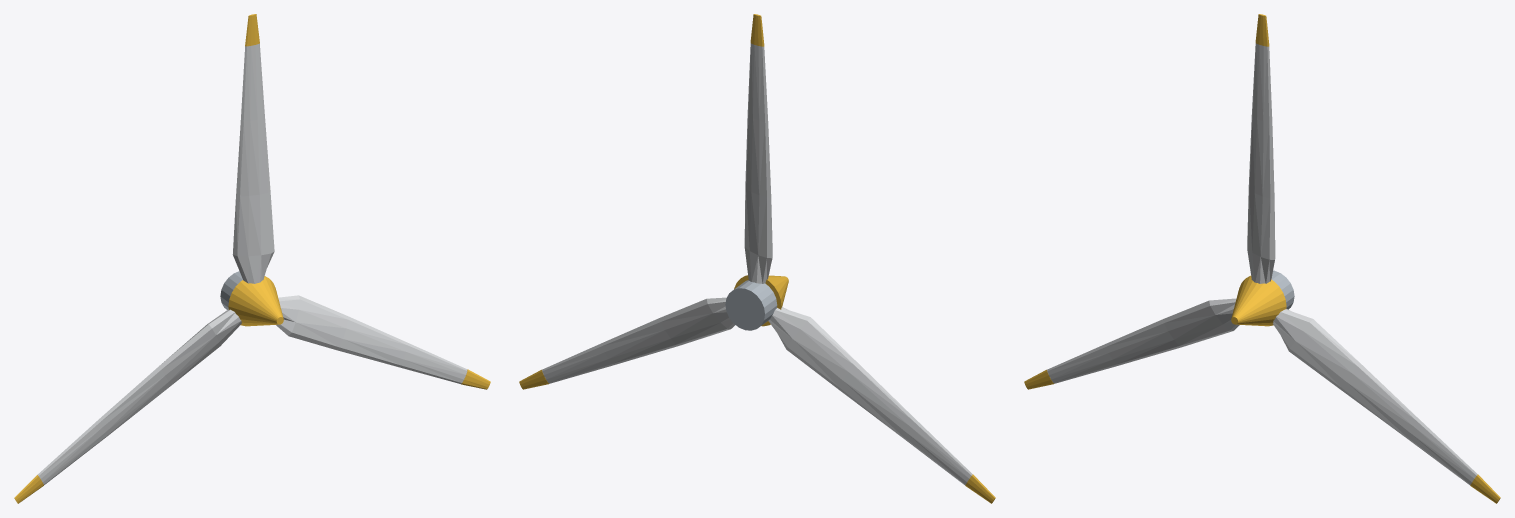
The model's file is ENERGY-018.glb.
3 renders of one model, left to right at view 1: azimuth 30°, elevation 25°; view 2: azimuth 150°, elevation 25°; view 3: azimuth 330°, elevation 25°, orthographic.
Parts seen in each view (by area): view 1: ENERGY-018; view 2: ENERGY-018; view 3: ENERGY-018.
Part boxes in pixels (bbox=[...]): ENERGY-018: bbox=[14, 14, 490, 503]; ENERGY-018: bbox=[519, 14, 995, 503]; ENERGY-018: bbox=[1024, 14, 1500, 503].
Bounding box in the file's own units: 6.72 × 5.82 × 0.98.
